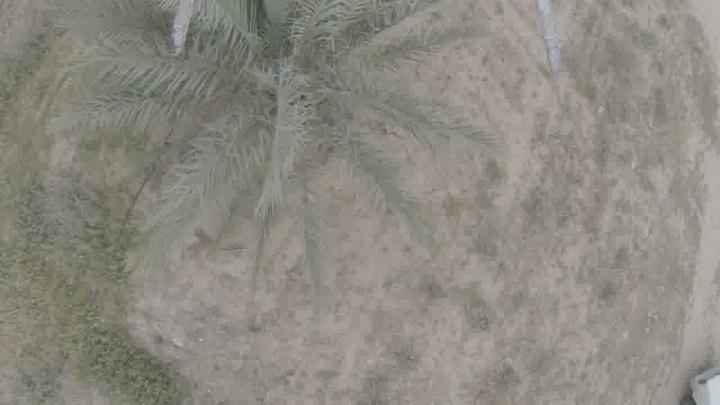Date-Palm-Crown: (166, 0, 391, 182)
